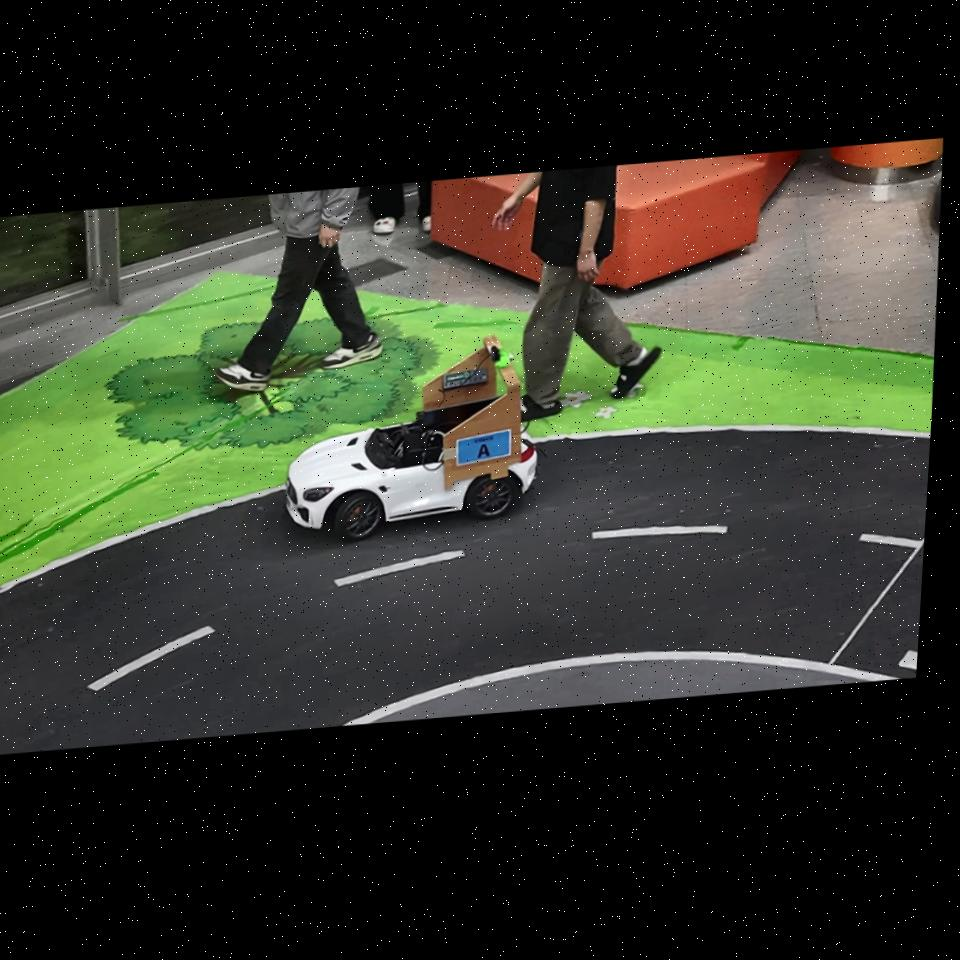broken_line: (88, 626, 215, 691), (334, 550, 465, 586), (592, 526, 727, 539), (860, 533, 922, 547)
crosswalk: (899, 629, 919, 670)
